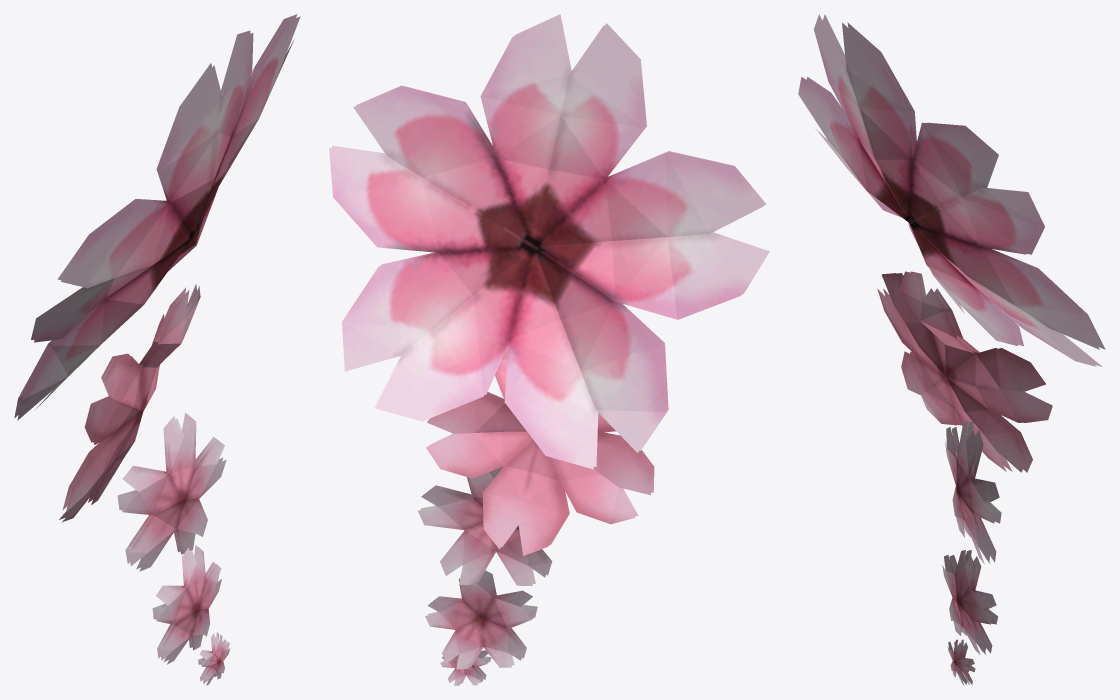
File: Bat_japanSakura.obj
3 renders of one model, left to right at view 1: azimuth 30°, elevation 25°; view 2: azimuth 150°, elevation 25°; view 3: azimuth 270°, elevation 25°, orthographic. The views are drawn at different scales.
Visible parts, largest first — view 1: Bat_japanSakura_tri; view 2: Bat_japanSakura_tri; view 3: Bat_japanSakura_tri.
Part boxes in pixels (<box>): Bat_japanSakura_tri: <box>14,14,300,685</box>; Bat_japanSakura_tri: <box>329,14,769,685</box>; Bat_japanSakura_tri: <box>798,14,1105,685</box>.
Size of the model in its own units: 0.1344 by 0.2438 by 0.1058.
Materials: 1 (1 with a texture image).
